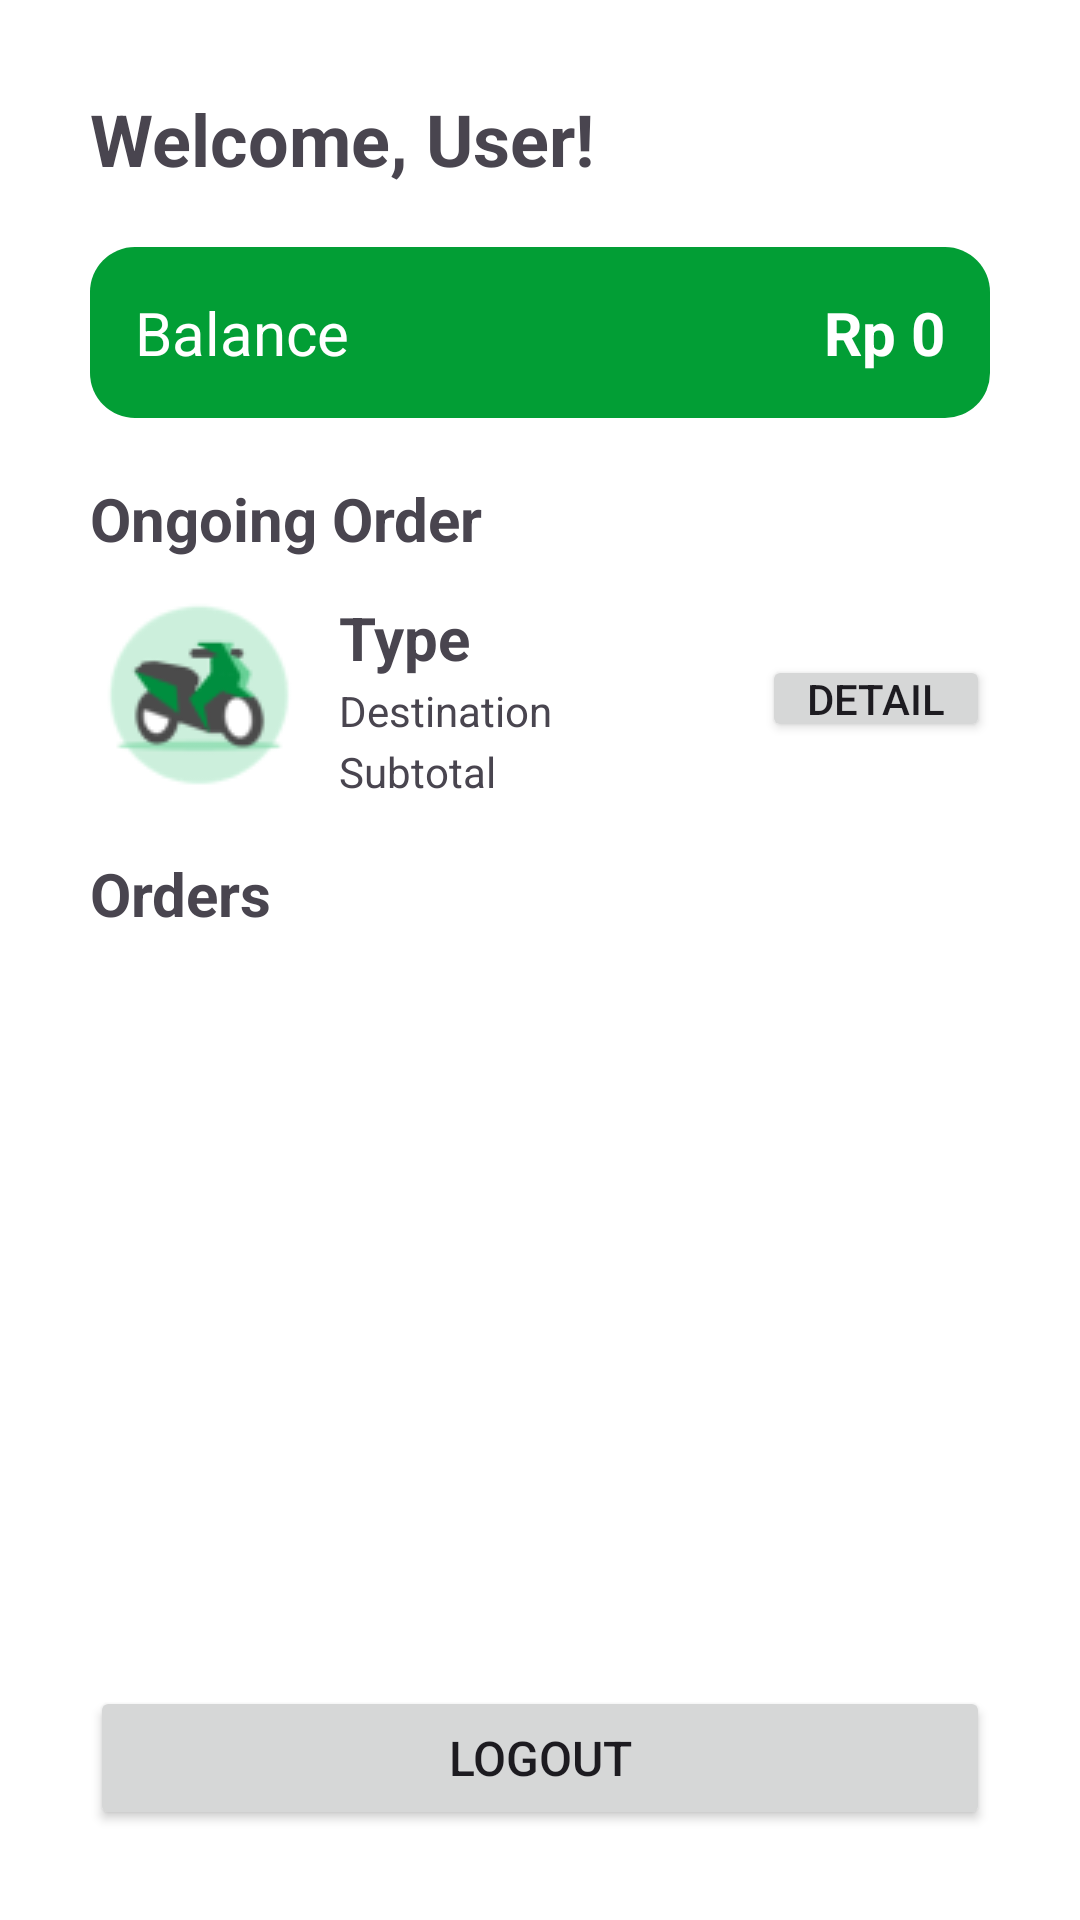

Locate icon controls on the screen. Image size 1080 x 1920, boxes as (x1, y1, x2, y2).
bike: (111, 607, 288, 784)
